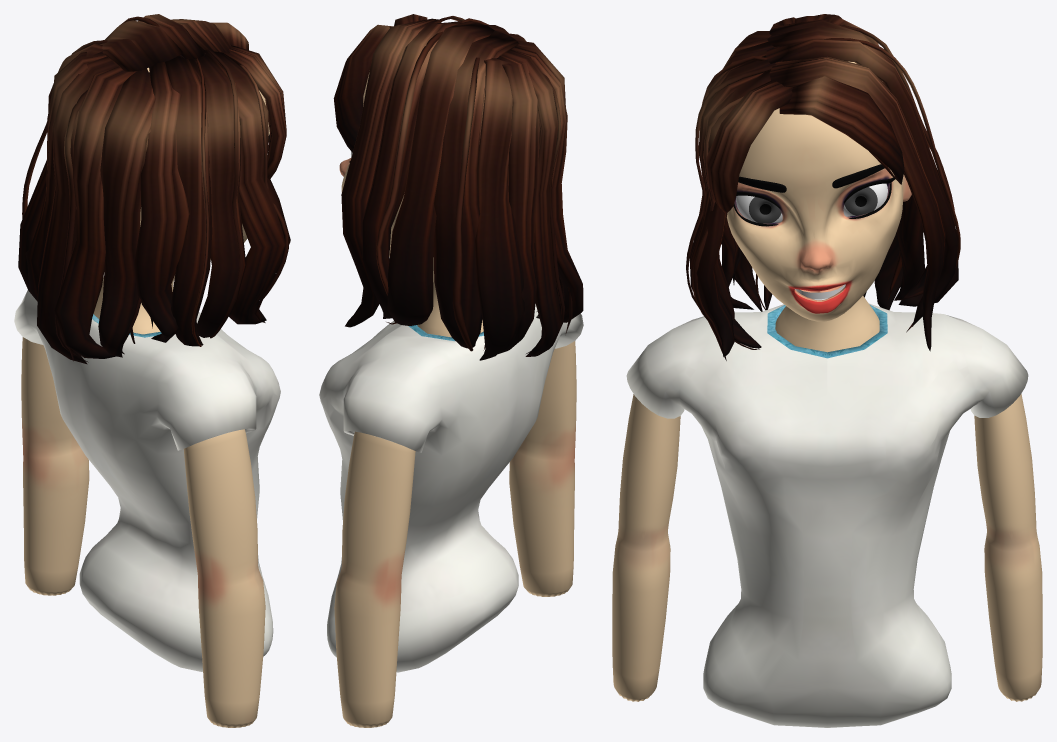
3 views of the same model, side by side, from view 1: azimuth 30°, elevation 25°; view 2: azimuth 150°, elevation 25°; view 3: azimuth 270°, elevation 25° (orthographic). The views are drawn at different scales.
Visible parts, largest first — view 1: Hair, Tshirt, Arm, Head; view 2: Hair, Tshirt, Arm, Head; view 3: Tshirt, Hair, Arm, Head, Eye, EyeBrow.
Boxes of the visible parts, x1,y1,x2,y2 form: Hair: (18, 14, 290, 364); Tshirt: (14, 272, 280, 671); Arm: (21, 337, 265, 727); Head: (93, 67, 269, 334); Hair: (333, 14, 583, 360); Tshirt: (319, 304, 583, 672); Arm: (334, 341, 576, 727); Head: (339, 72, 483, 337); Tshirt: (626, 303, 1028, 727); Hair: (686, 14, 960, 360); Arm: (612, 394, 1042, 701); Head: (727, 61, 911, 352); Eye: (736, 183, 887, 223); EyeBrow: (738, 164, 884, 192).
Size of the model in its own units: 2.02 by 5.33 by 3.1.
Materials: 9 (5 with a texture image).
